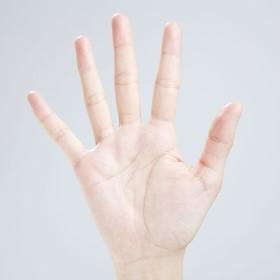pa-: (25, 12, 244, 243)
